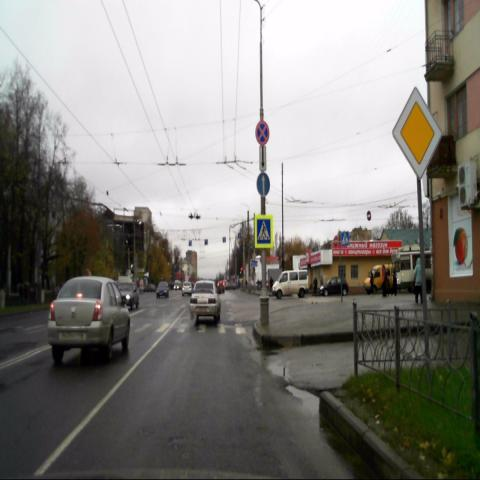2_1: (392, 86, 442, 179)
3_27: (255, 121, 269, 146)
4_1_1: (256, 172, 270, 196)
5_19_1: (255, 215, 273, 247), (341, 231, 349, 246)
